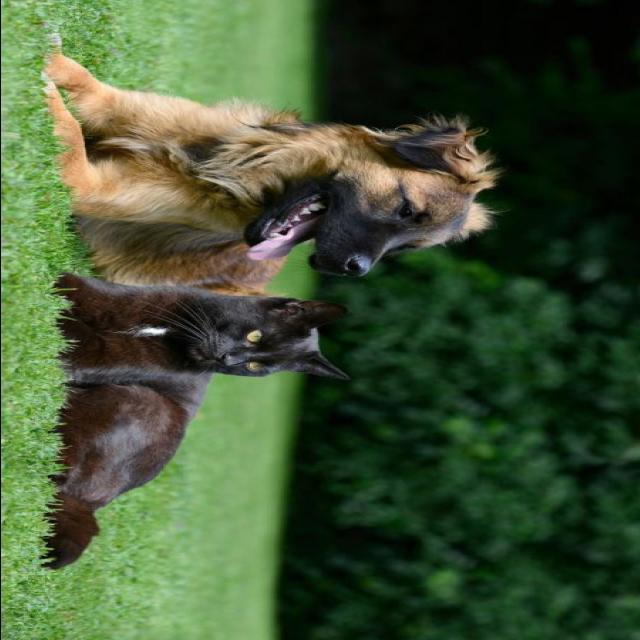cat: (42, 280, 352, 576)
dog: (54, 77, 505, 281)
